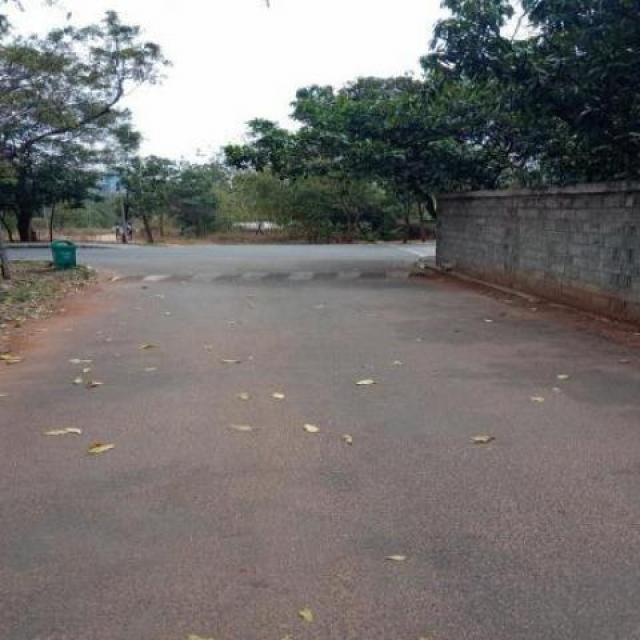Speed Bump: (90, 268, 438, 282)
